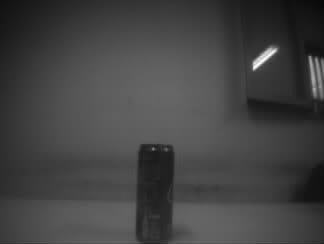Tin can: (135, 143, 175, 243)
